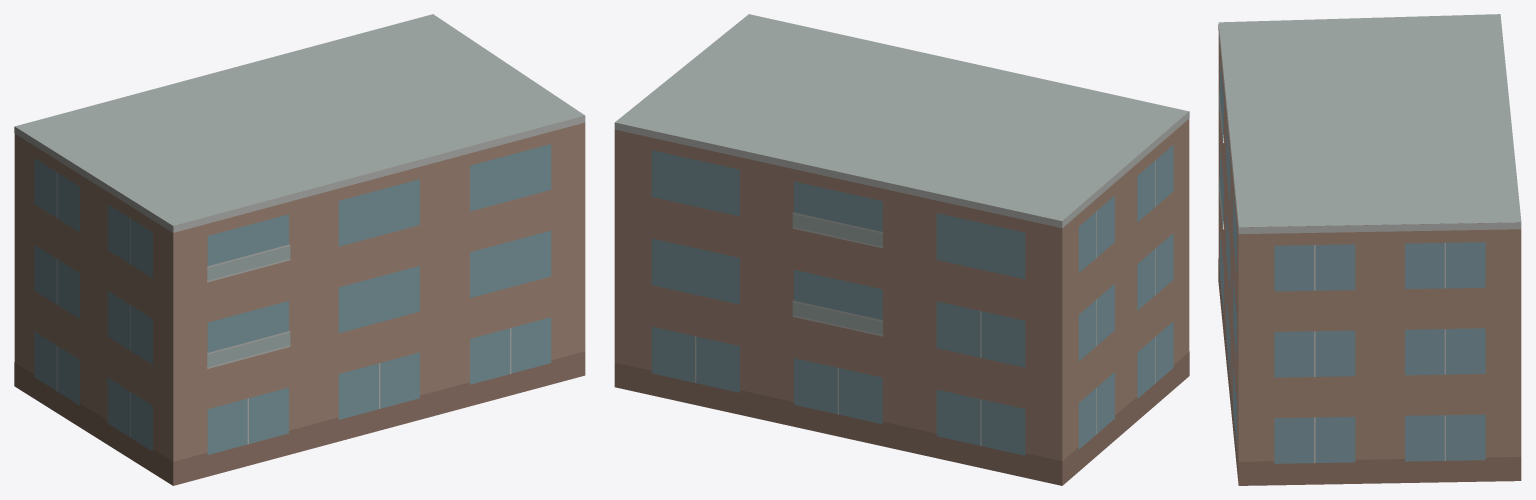
Rendered from survey-upis-32982558.glb.
3 renders of one model, left to right at view 1: azimuth 30°, elevation 25°; view 2: azimuth 150°, elevation 25°; view 3: azimuth 270°, elevation 25°, orthographic. The views are drawn at different scales.
Parts seen in each view (by area): view 1: survey-upis-32982558.tmp; view 2: survey-upis-32982558.tmp; view 3: survey-upis-32982558.tmp.
Part boxes in pixels (x1,y1,x2,y2): survey-upis-32982558.tmp: (14,14,585,485); survey-upis-32982558.tmp: (614,14,1189,485); survey-upis-32982558.tmp: (1218,14,1521,485).
Bounding box in the file's own units: 16.2 × 9.15 × 9.73.
